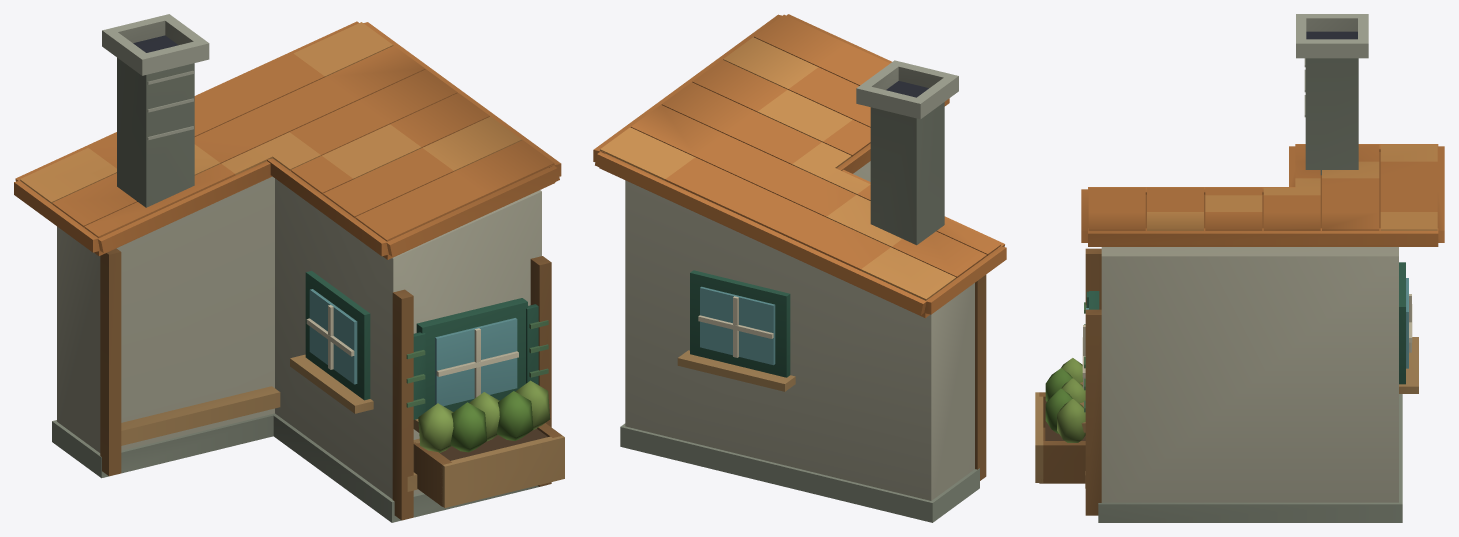
File: kitchen_wing_a.glb
The picture shows the model from 3 angles, left to right: view 1: azimuth 30°, elevation 25°; view 2: azimuth 150°, elevation 25°; view 3: azimuth 270°, elevation 25°; orthographic projection. The views are drawn at different scales.
Visible parts, largest first — view 1: kitchen_wing_a; view 2: kitchen_wing_a; view 3: kitchen_wing_a.
Part boxes in pixels (x1,y1,x2,y2): kitchen_wing_a: (14, 14, 564, 522); kitchen_wing_a: (593, 14, 1006, 522); kitchen_wing_a: (1035, 14, 1444, 522).
Bounding box in the file's own units: 1.61 × 1.81 × 1.78.
